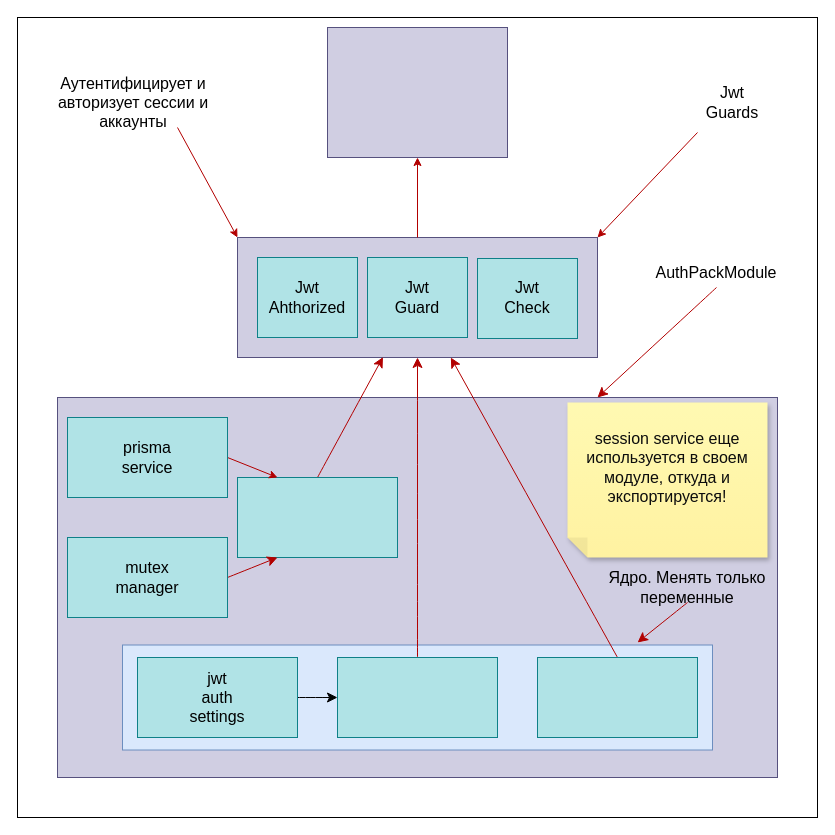
Some shapes in this 835 by 835 pixel diagram are drawn without their labels. Each missing label, with the centre of its shape:
"cookie settings" goes at (x=617, y=697).
"jwt auth service" goes at (x=417, y=697).
"Modules" goes at (x=417, y=92).
"session service" goes at (x=317, y=517).
